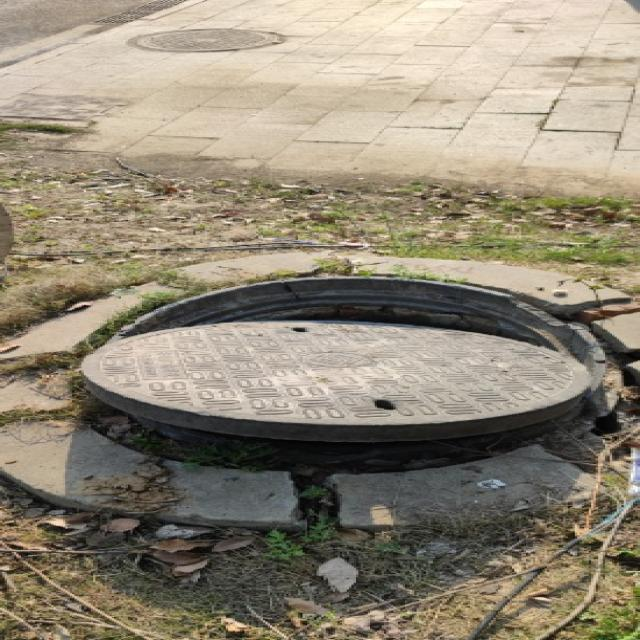Faulty: (38, 248, 620, 476)
